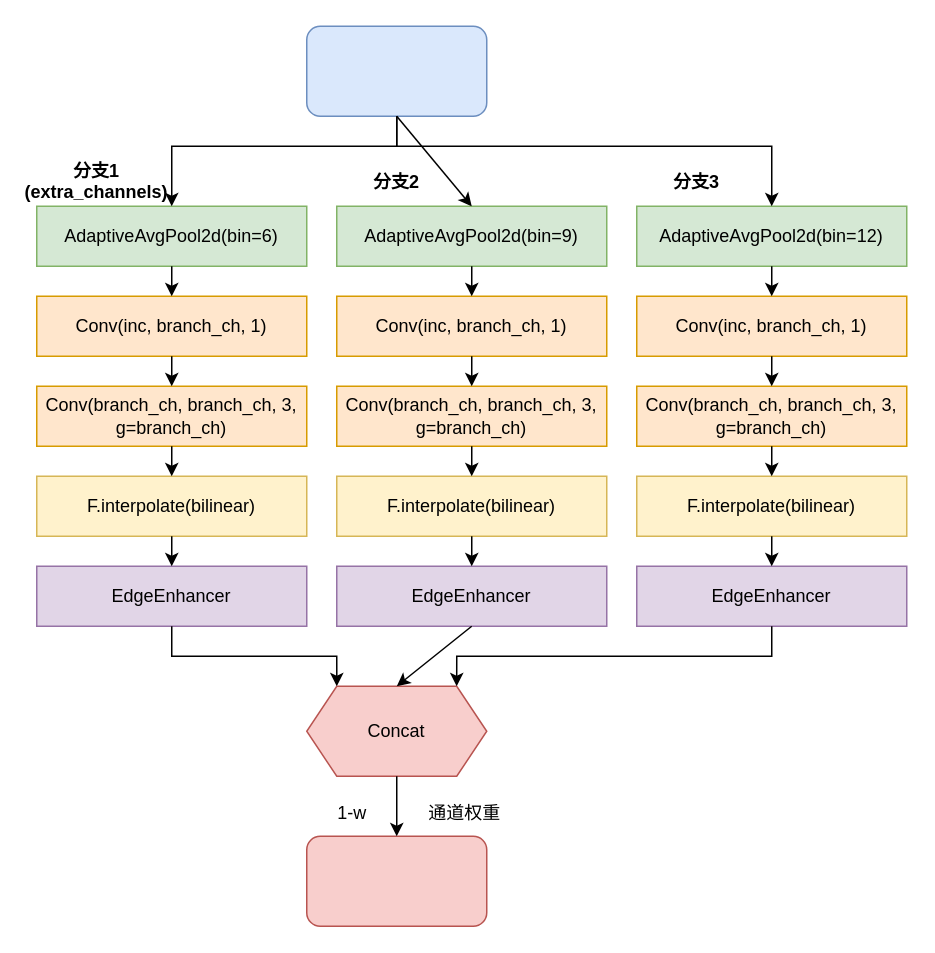
Image size: 935x953. Some labels were removed from this diagram. Here are the shapes that lost their labels. From the top down, the box of each, then its label:
(305, 25, 487, 116): 输入 x
(305, 835, 487, 926): 最终MSEIE输出
